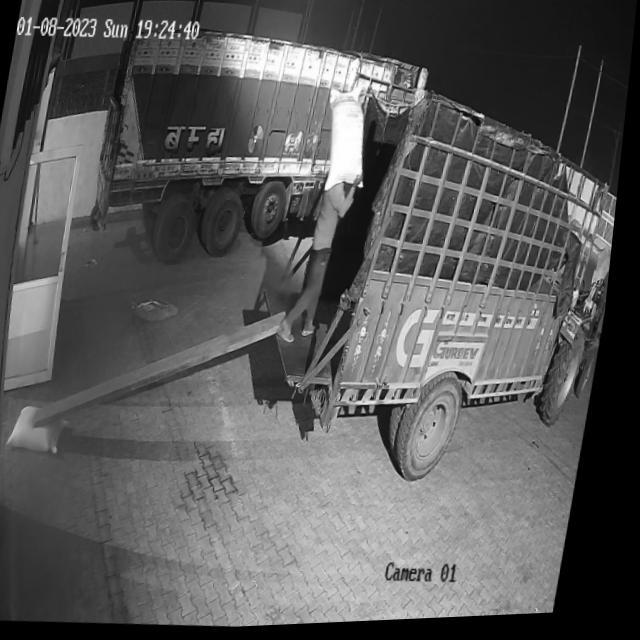sack: (315, 86, 383, 196), (15, 402, 78, 456)
